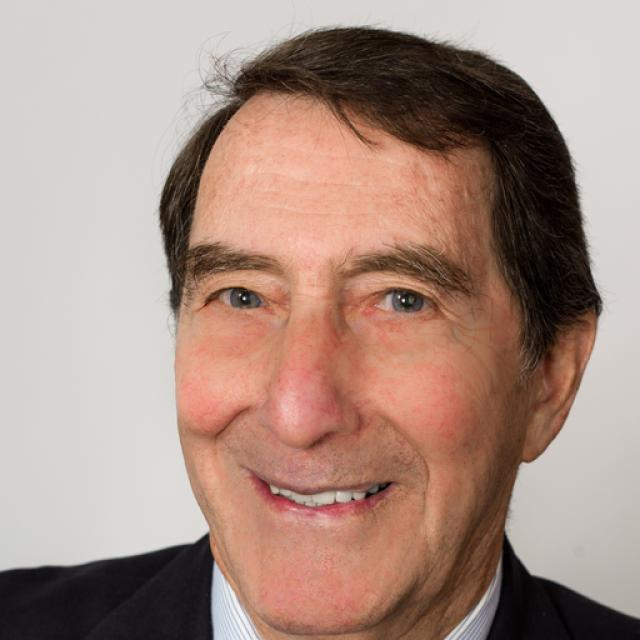Pigmentation: (258, 305, 349, 426), (408, 153, 494, 280)
Wrinkle: (374, 405, 437, 504), (265, 164, 395, 195), (200, 394, 256, 449), (251, 203, 406, 219)
